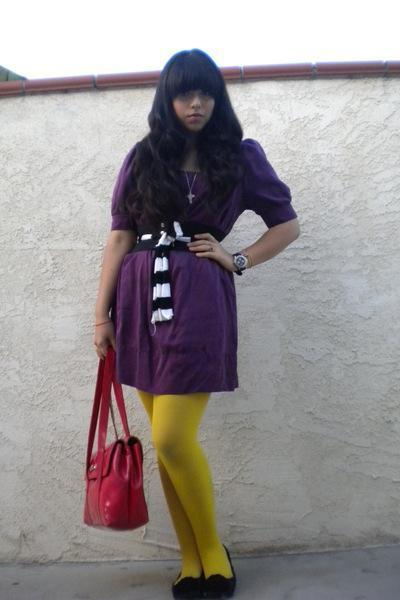bag: (84, 358, 148, 530)
dress: (105, 139, 296, 395)
shoe: (172, 565, 235, 599)
